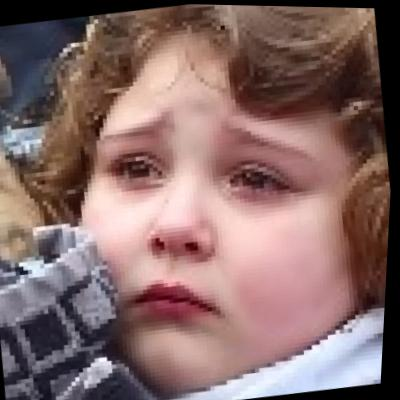sad: (53, 21, 372, 391)
